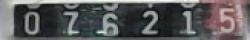digits: (95, 12, 118, 36), (61, 10, 80, 34), (178, 10, 196, 34), (140, 10, 158, 34), (23, 11, 40, 35), (218, 7, 234, 32)
